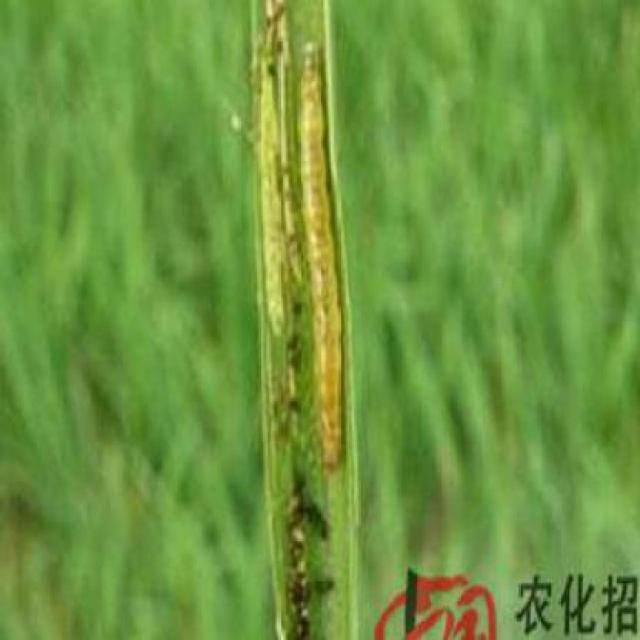leaf-folder: (238, 32, 353, 476)
